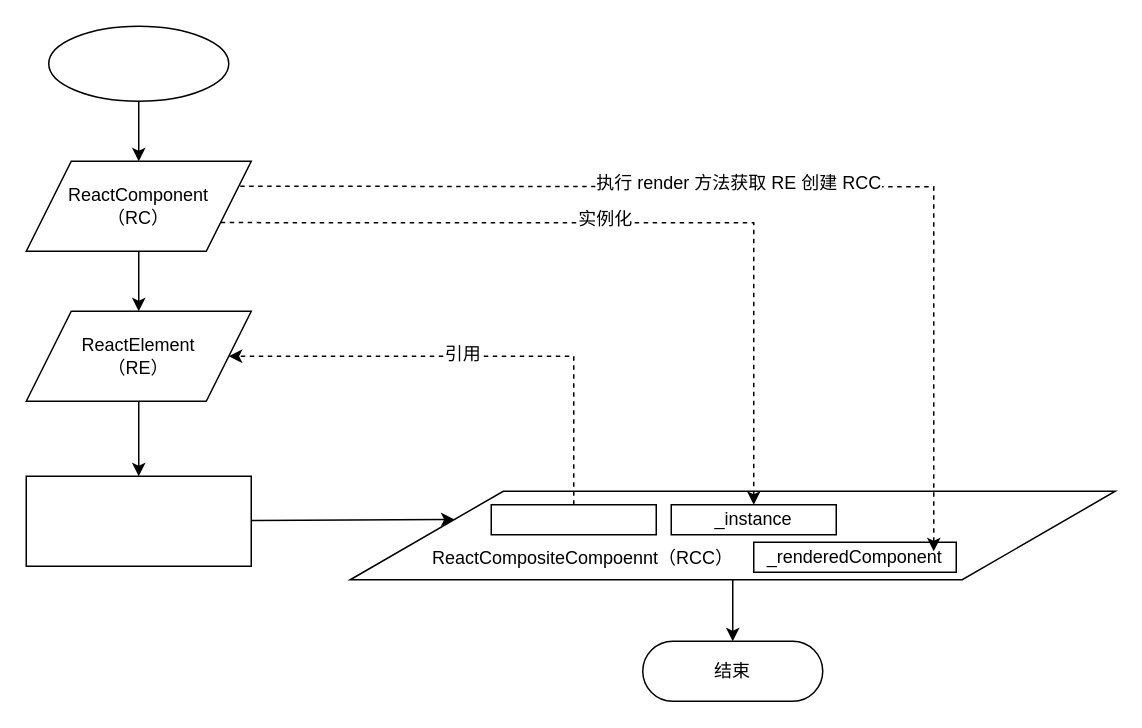
Image size: 1142x728. Some labels were removed from this diagram. Each missing label, with the centre of its shape:
_currentElement: point (573, 519)
ReactDOM.render: point (138, 520)
开始: point (138, 63)
